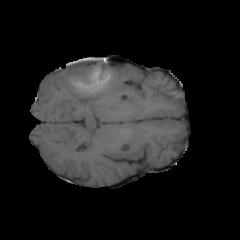glioma: (64, 57, 126, 105)
